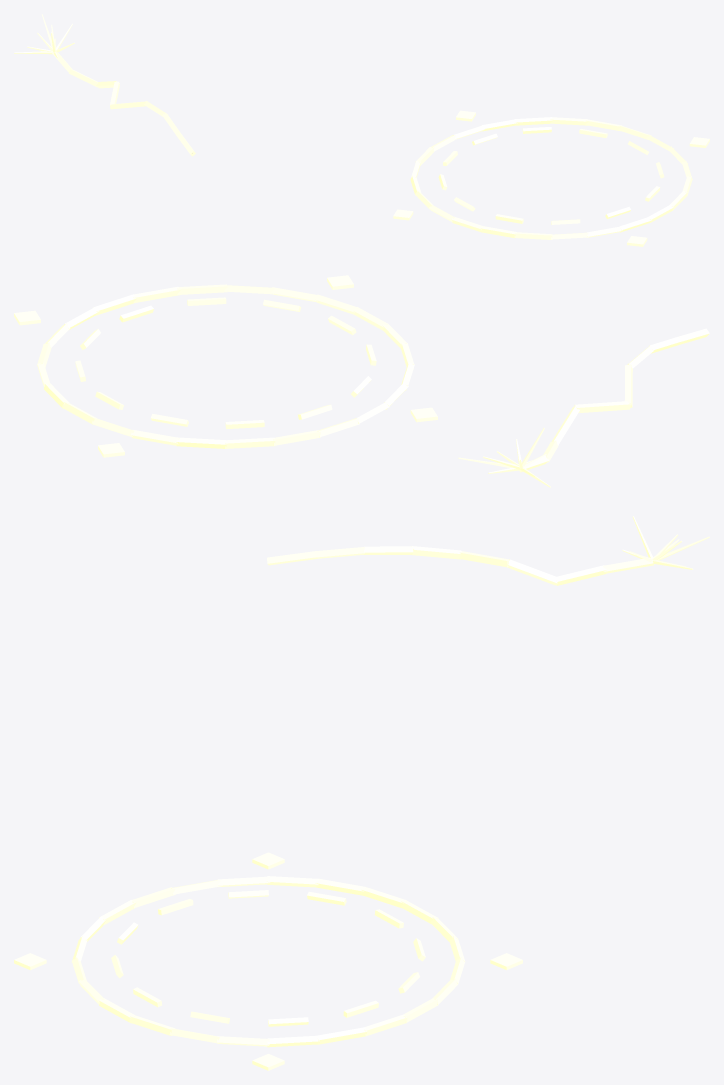
File: FX_AegisRepair.fbx
3 renders of one model, top to bottom at view 1: azimuth 30°, elevation 25°; view 2: azimuth 150°, elevation 25°; view 3: azimuth 270°, elevation 25°, orthographic. The views are drawn at different scales.
Parts seen in each view (by area): view 1: ARep_Ring, ARep_RingDash, ARep_Arc; view 2: ARep_Ring, ARep_RingDash, ARep_Arc; view 3: ARep_Ring, ARep_Arc, ARep_RingDash.
Boxes of the visible parts, x1,y1,x2,y2 form: ARep_Ring: (410, 117, 692, 239); ARep_RingDash: (438, 127, 664, 224); ARep_Arc: (52, 51, 195, 156); ARep_Ring: (37, 284, 414, 448); ARep_RingDash: (75, 297, 376, 429); ARep_Arc: (519, 328, 709, 472); ARep_Ring: (71, 876, 465, 1047); ARep_Arc: (267, 546, 654, 585); ARep_RingDash: (111, 890, 425, 1026).
Size of the model in its own units: 2.29 by 0.572 by 1.81.
